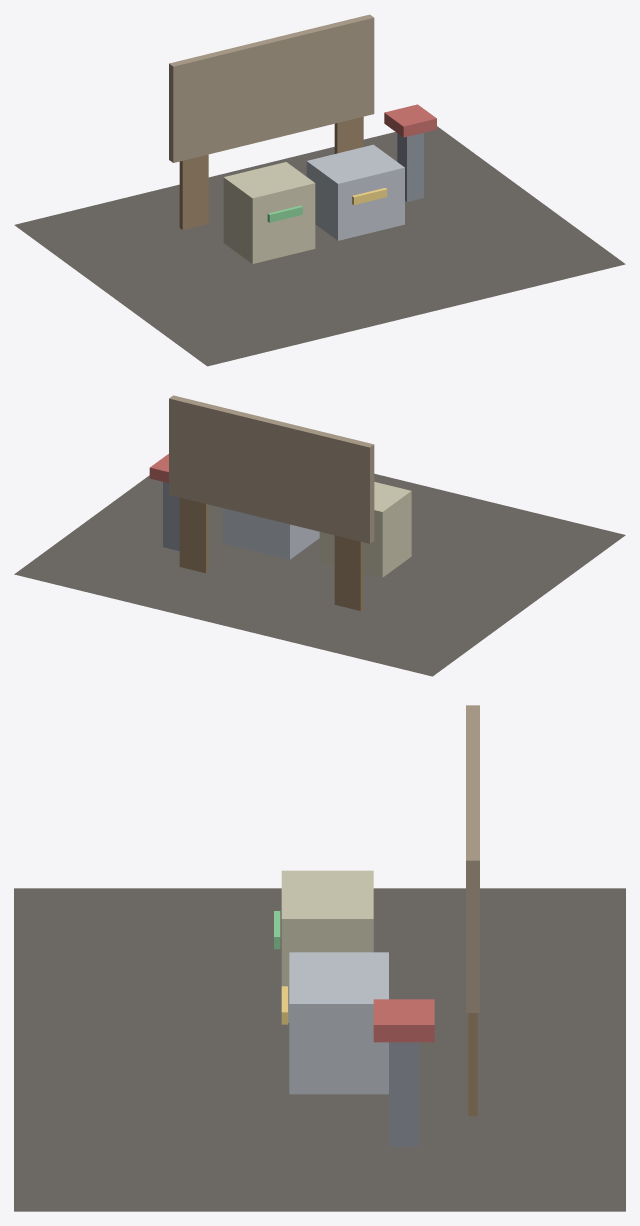
Rendered from world.glb.
3 views of the same model, one above another, from view 1: azimuth 30°, elevation 25°; view 2: azimuth 150°, elevation 25°; view 3: azimuth 270°, elevation 25° (orthographic). The views are drawn at different scales.
Parts seen in each view (by area): view 1: reminders_opaque_mesh, reminders_emissive_mesh; view 2: reminders_opaque_mesh; view 3: reminders_opaque_mesh.
Boxes of the visible parts, left/top/right/bottom form: reminders_opaque_mesh: left=14, top=14, right=625, bottom=366; reminders_emissive_mesh: left=267, top=188, right=387, bottom=222; reminders_opaque_mesh: left=14, top=395, right=625, bottom=676; reminders_opaque_mesh: left=14, top=705, right=625, bottom=1211.
Bounding box in the file's own units: 10 × 3.85 × 8.
